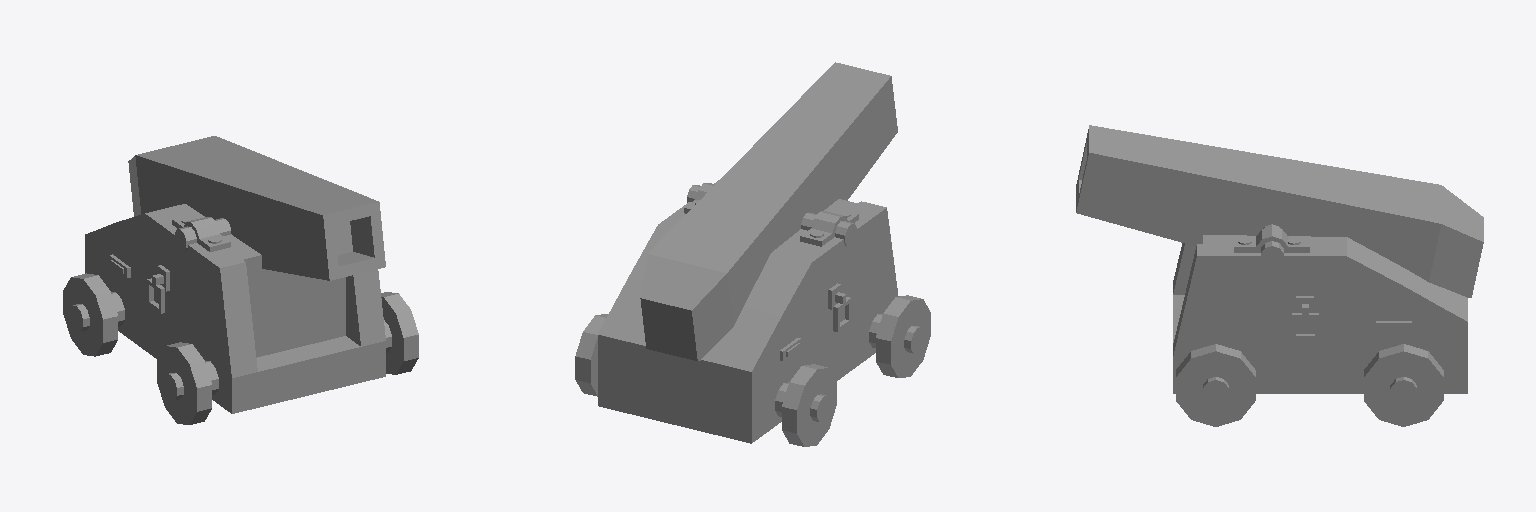
File: cannon_cannon.obj
3 views of the same model, side by side, from view 1: azimuth 30°, elevation 25°; view 2: azimuth 150°, elevation 25°; view 3: azimuth 270°, elevation 25° (orthographic).
Parts seen in each view (by area): view 1: Cube; view 2: Cube; view 3: Cube.
Boxes of the visible parts, x1,y1,x2,y2 form: Cube: [63, 136, 418, 424]; Cube: [575, 62, 930, 446]; Cube: [1076, 125, 1483, 426].
Size of the model in its own units: 1.18 by 1.12 by 1.76.